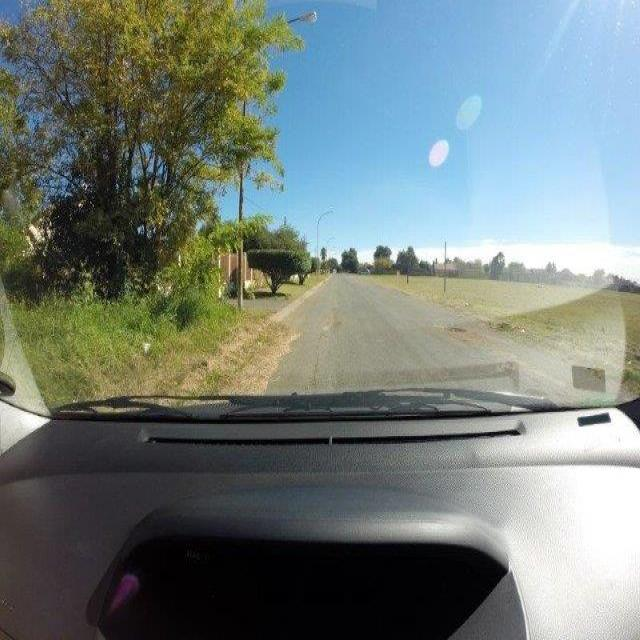jalan retak: (311, 314, 327, 390)
lubang: (441, 320, 471, 339)
